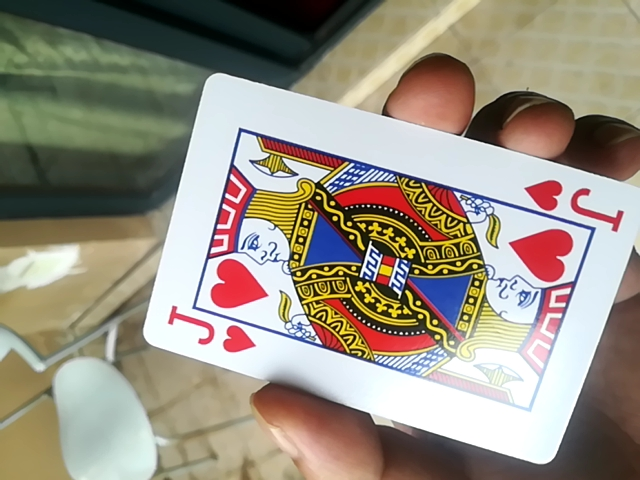hx j: (142, 77, 640, 465)
